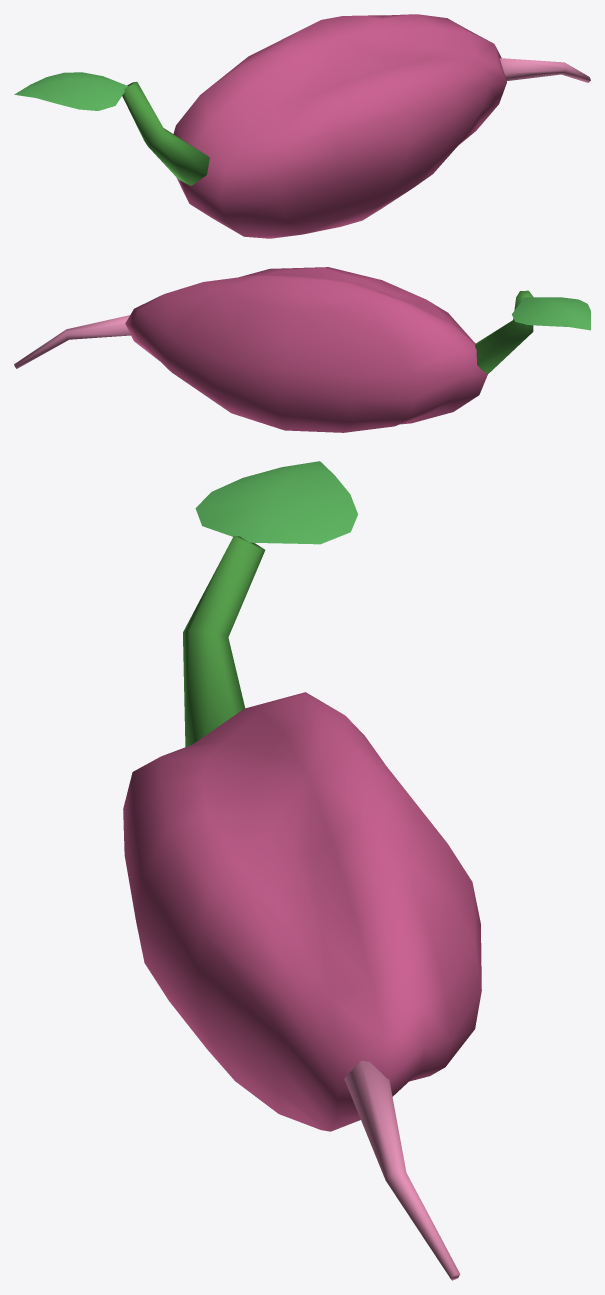
File: batata-doce.glb
3 views of the same model, one above another, from view 1: azimuth 30°, elevation 25°; view 2: azimuth 150°, elevation 25°; view 3: azimuth 270°, elevation 25° (orthographic). The views are drawn at different scales.
Parts seen in each view (by area): view 1: batata-doce; view 2: batata-doce; view 3: batata-doce.
Part boxes in pixels (left/top/right/bottom): batata-doce: left=14, top=14, right=590, bottom=238; batata-doce: left=14, top=267, right=590, bottom=432; batata-doce: left=123, top=461, right=481, bottom=1280.
Bounding box in the file's own units: 0.427 × 0.1358 × 0.1221.
